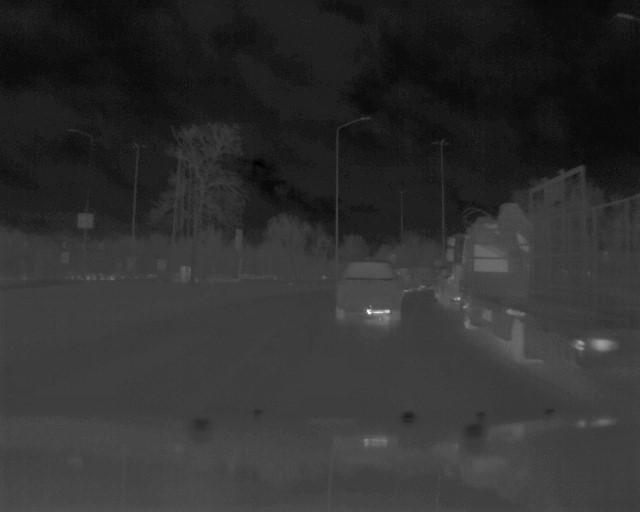car: (457, 227, 624, 366), (335, 261, 407, 333)
